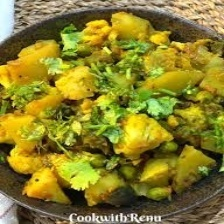sabzi: (0, 13, 224, 212)
